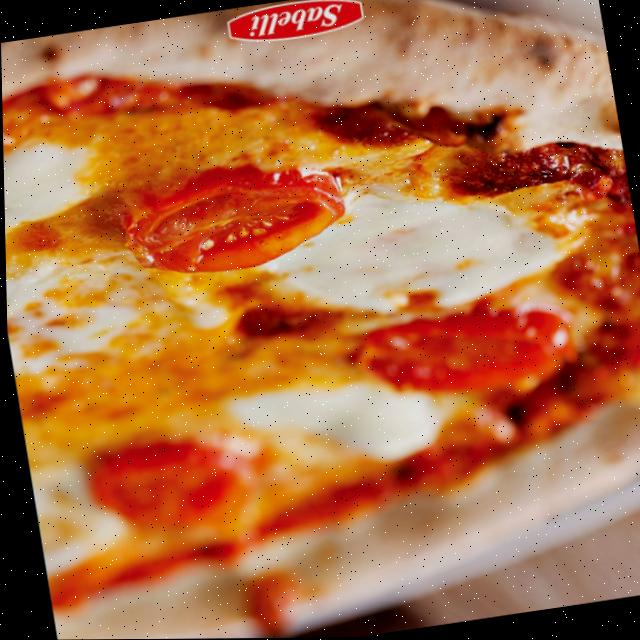pizza: (0, 0, 640, 640)
tomatoes: (113, 153, 355, 287), (350, 293, 579, 411), (77, 429, 254, 537)
